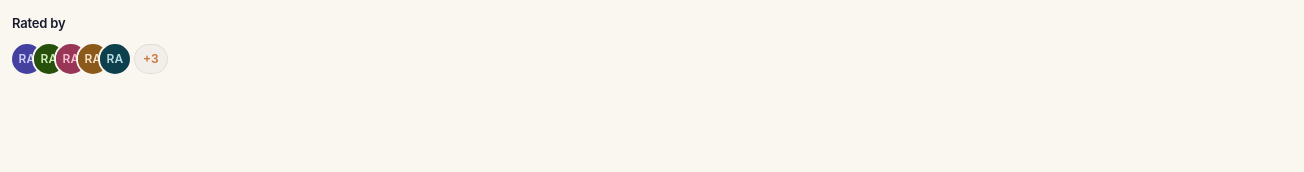
Test: RatedByRow — '+N' expands in place to all raters (AC-1 / AC-2) › reveals a linked badge for EVERY rater after the chip is clicked
Click the button.
click(151, 59)  # box top-left (134, 44), bottom-right (168, 74)
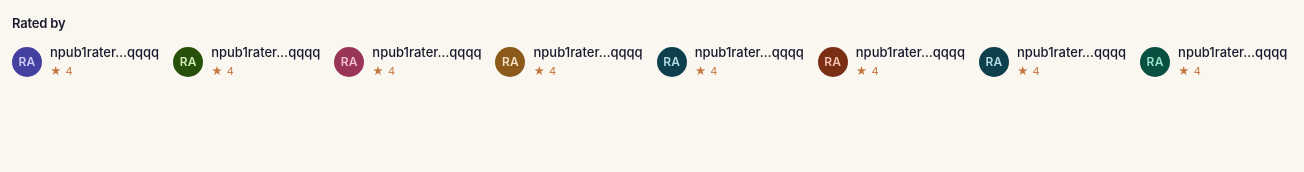
Now the number of links is 8
